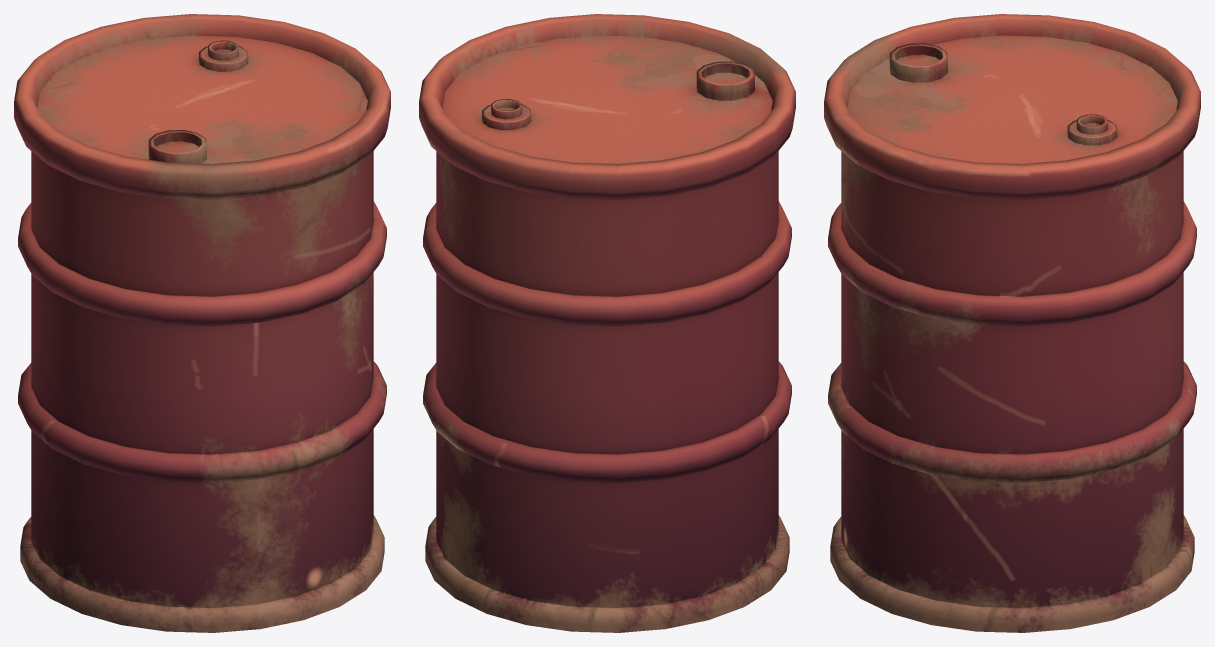
Rendered from OilDrum_Red.glb.
3 views of the same model, side by side, from view 1: azimuth 30°, elevation 25°; view 2: azimuth 150°, elevation 25°; view 3: azimuth 270°, elevation 25° (orthographic).
Visible parts, largest first — view 1: Oil_Drum; view 2: Oil_Drum; view 3: Oil_Drum.
Part boxes in pixels (x1,y1,x2,y2): Oil_Drum: (14, 14, 390, 632); Oil_Drum: (419, 14, 795, 632); Oil_Drum: (824, 14, 1200, 632).
Size of the model in its own units: 0.7164 by 0.9758 by 0.7164.
1 material, 1 textured.
